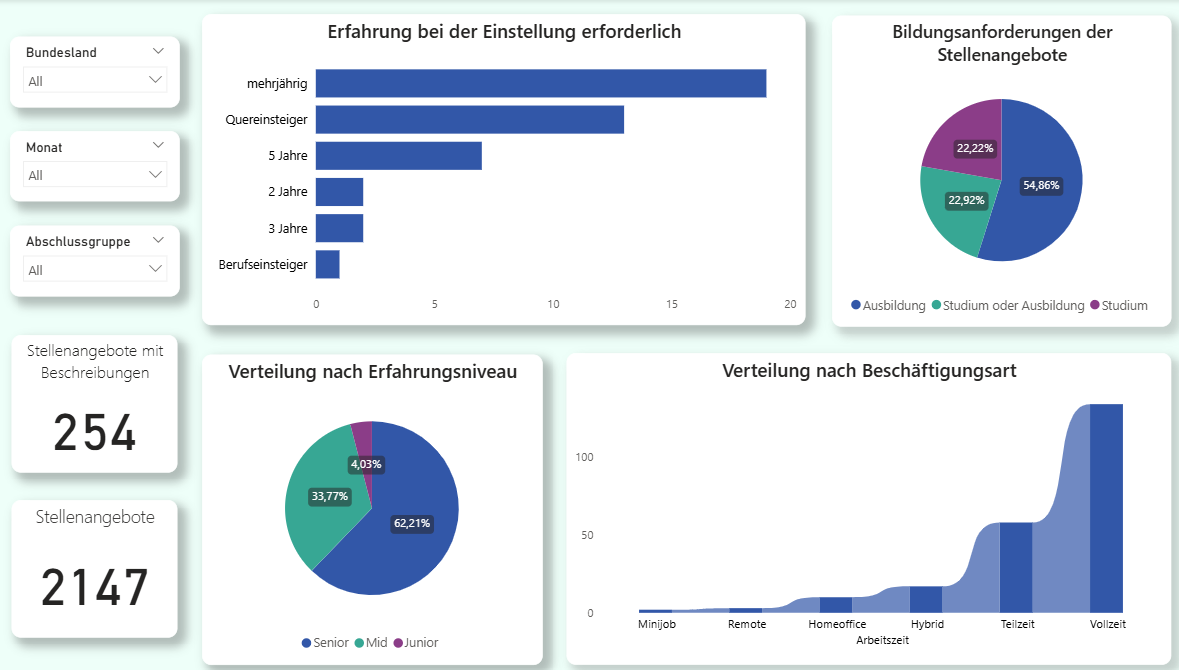

Layout of this report page (visuals, bound fields, positions):
{"tool":"powerbi","page":{"name":"условия и требования","canvas":[1280,720],"ordinal":2},"visuals":[{"type":"clusteredBarChart","title":"Erfahrung bei der Einstellung erforderlich","fields":{"Category":["logistiker_jobs_clean.Erfahrung"],"Y":["CountNonNull(logistiker_jobs_clean.ID)"]},"box":[220,16,640,330],"z":0},{"type":"pieChart","title":"Bildungsanforderungen der Stellenangebote","fields":{"Category":["logistiker_jobs_clean.Abschluss_Gruppe"],"Y":["CountNonNull(logistiker_jobs_clean.ID)"]},"box":[888,18,360,330],"z":1000},{"type":"ribbonChart","title":"Verteilung nach Beschäftigungsart","fields":{"Category":["logistiker_all_keywords.Kategorie","logistiker_all_keywords.Keyword"],"Y":["CountNonNull(logistiker_all_keywords.ID)"]},"box":[606,375.4,641,330.8],"z":2000},{"type":"slicer","fields":{"Values":["logistiker_jobs_clean.Bundesland"]},"box":[15.9,39.8,180,75],"z":3000},{"type":"slicer","fields":{"Values":["logistiker_jobs_clean.Abschluss_Gruppe"]},"box":[15.5,240,180,75],"z":4000},{"type":"slicer","fields":{"Values":["Calendar.Jahr","Calendar.Monat_Name"]},"box":[15.5,140,180,74.5],"z":5000},{"type":"pieChart","title":"Verteilung nach Erfahrungsniveau","fields":{"Category":["logistiker_jobs_clean.Level"],"Y":["CountNonNull(logistiker_jobs_clean.ID)"]},"box":[219.5,377,361.1,329.3],"z":6000},{"type":"card","title":"Stellenangebote mit Beschreibungen","fields":{"Values":["Count(logistiker_all_keywords.ID)"]},"box":[18,356,176,146],"z":7000},{"type":"card","title":"Stellenangebote","fields":{"Values":["Count(logistiker_jobs_clean.ID)"]},"box":[18,532,176,146],"z":8000}]}

Visuals, with their boxes in screenshot pixels (x1, y1, x2, y2), scaled from the page's 1280x720 canvas onto the 1179x670 screenshot:
"Erfahrung bei der Einstellung erforderlich" clusteredBarChart: locate(203, 15, 792, 322)
"Bildungsanforderungen der Stellenangebote" pieChart: locate(818, 17, 1150, 324)
"Verteilung nach Beschäftigungsart" ribbonChart: locate(558, 349, 1149, 657)
slicer - logistiker_jobs_clean.Bundesland: locate(15, 37, 180, 107)
slicer - logistiker_jobs_clean.Abschluss_Gruppe: locate(14, 223, 180, 293)
slicer - Calendar.Jahr x Calendar.Monat_Name: locate(14, 130, 180, 200)
"Verteilung nach Erfahrungsniveau" pieChart: locate(202, 351, 535, 657)
"Stellenangebote mit Beschreibungen" card: locate(17, 331, 179, 467)
"Stellenangebote" card: locate(17, 495, 179, 631)
